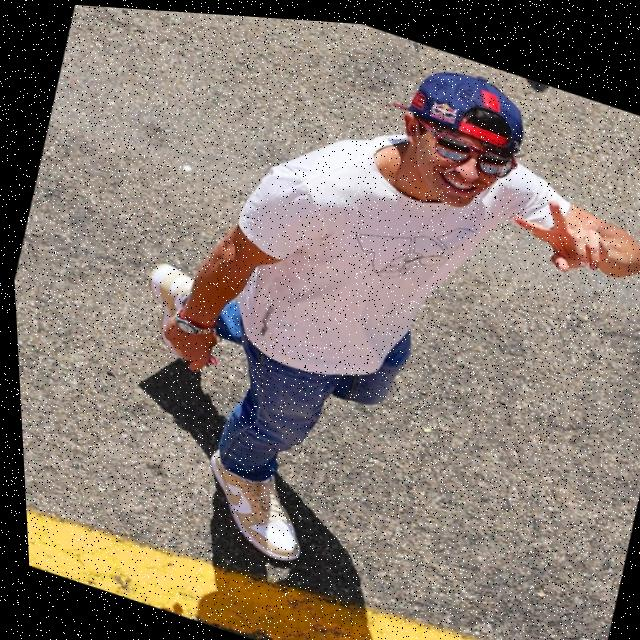illegal_helmet: (360, 38, 544, 224)
